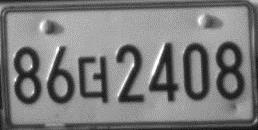0: (181, 41, 212, 102)
2: (113, 42, 145, 103)
4: (147, 41, 180, 103)
6: (44, 45, 75, 104)
8: (214, 40, 246, 101), (12, 45, 41, 104)
더: (77, 55, 109, 104)
